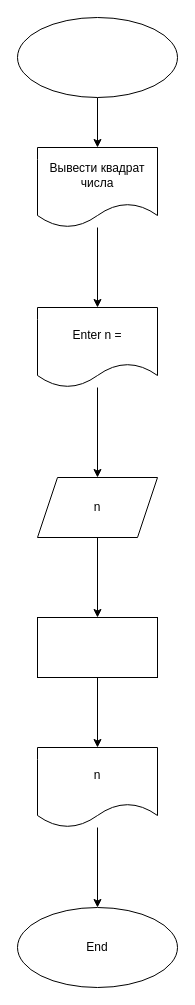
The diagram is 195 pixels wide and 1005 high, and some of its shapes have lost their labels. The box of each missing label's shape, as (x1, y1, x2, y2) in pixels:
n = n ^ 2: (36, 616, 158, 678)
Start: (16, 16, 178, 98)
